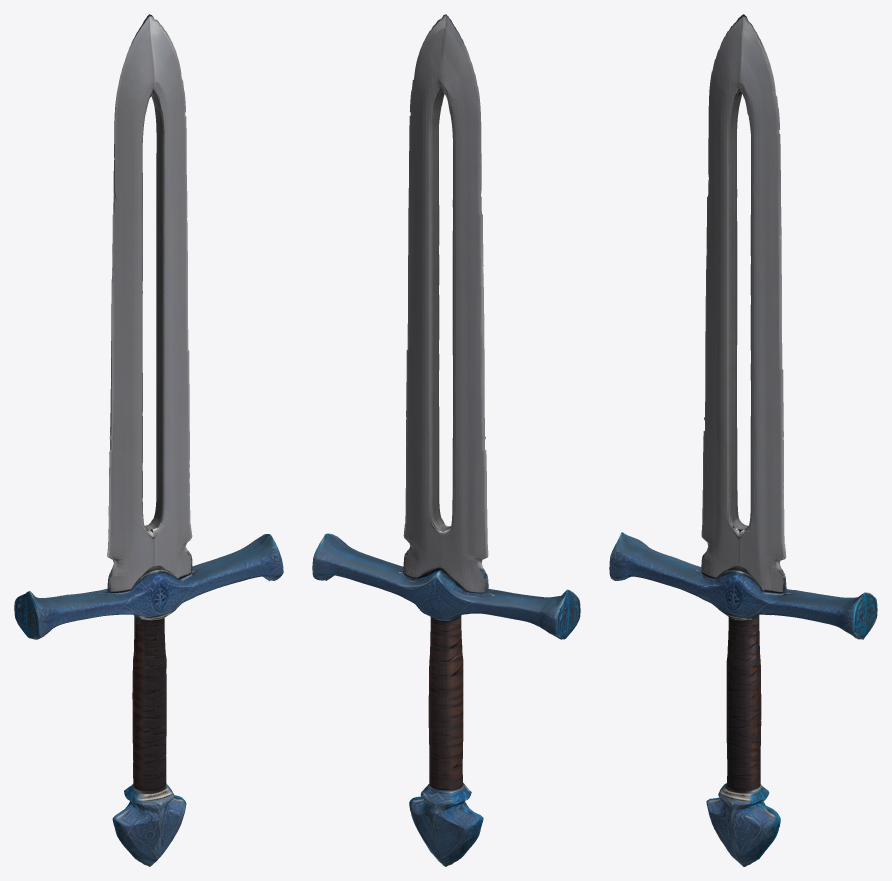
Rendered from Sword_0405183558_texture.fbx.
3 views of the same model, side by side, from view 1: azimuth 30°, elevation 25°; view 2: azimuth 150°, elevation 25°; view 3: azimuth 330°, elevation 25° (orthographic).
Visible parts, largest first — view 1: temp; view 2: temp; view 3: temp.
Boxes of the visible parts, <box> form: temp: <box>14,14,283,866</box>; temp: <box>312,14,580,866</box>; temp: <box>609,14,877,866</box>.
Bounding box in the file's own units: 59.8 × 198 × 10.65.
1 material, 1 textured.
